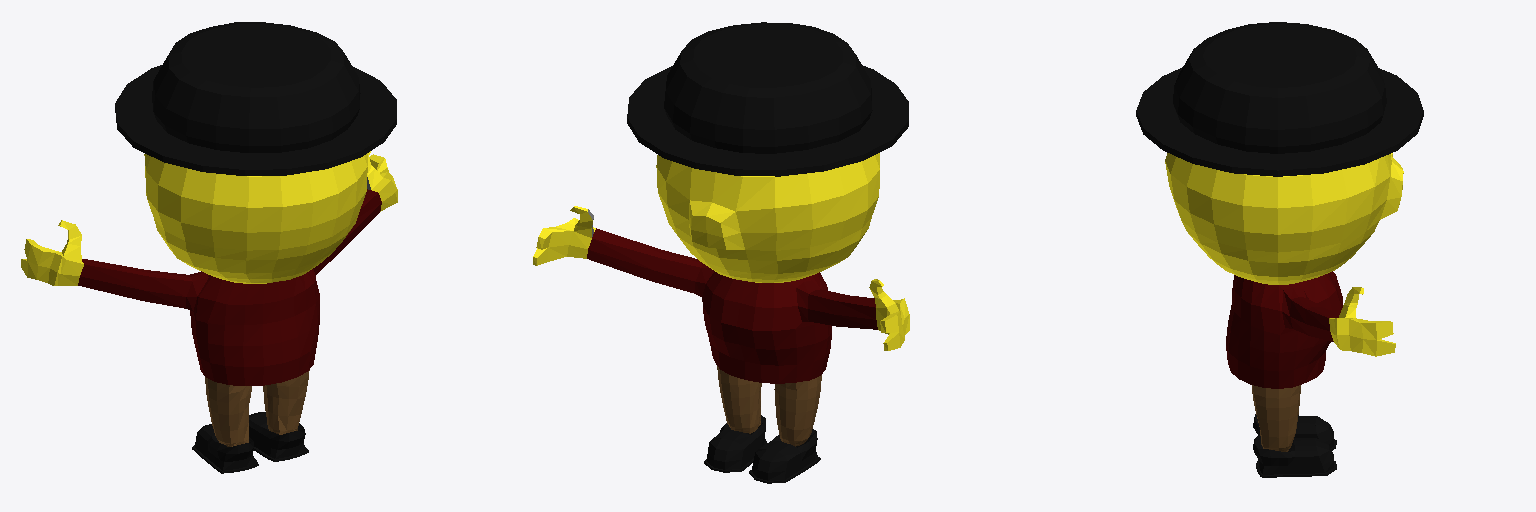
File: tayto.obj
The picture shows the model from 3 angles: view 1: azimuth 30°, elevation 25°; view 2: azimuth 150°, elevation 25°; view 3: azimuth 270°, elevation 25°; orthographic projection.
Visible parts, largest first — view 1: pCylinder2; view 2: pCylinder2; view 3: pCylinder2.
Part boxes in pixels (x1,y1,x2,y2): pCylinder2: (21, 22, 397, 473); pCylinder2: (533, 22, 909, 483); pCylinder2: (1136, 22, 1423, 477).
Size of the model in its own units: 7.63 by 8.09 by 5.26.